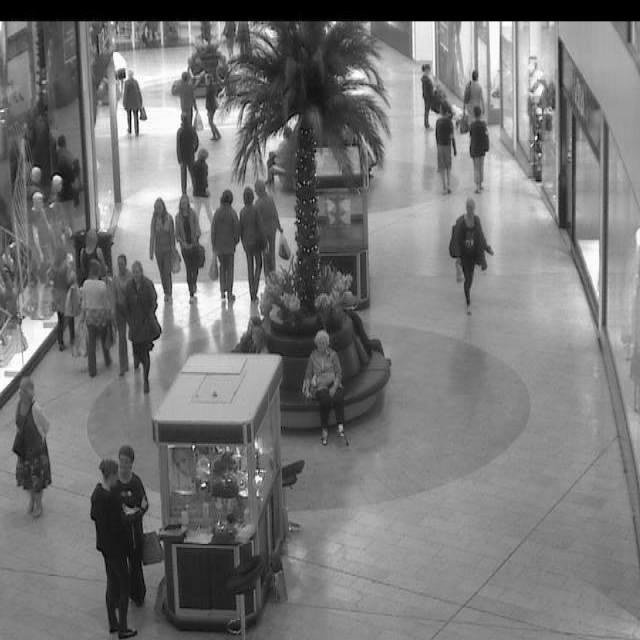person: (92, 446, 152, 640), (120, 441, 162, 600), (11, 384, 52, 520), (300, 331, 344, 449), (120, 261, 162, 384), (450, 201, 493, 311), (254, 178, 288, 294), (44, 244, 78, 353), (210, 192, 242, 305), (239, 189, 270, 303), (82, 259, 110, 380), (150, 197, 180, 304), (76, 218, 110, 282), (168, 112, 196, 187), (432, 108, 456, 195), (466, 116, 490, 196), (202, 70, 226, 142), (122, 68, 144, 136), (176, 65, 197, 135), (420, 65, 440, 124), (465, 72, 486, 128), (190, 146, 214, 194), (236, 309, 260, 352), (110, 43, 130, 84), (224, 17, 240, 56), (252, 326, 266, 354)
